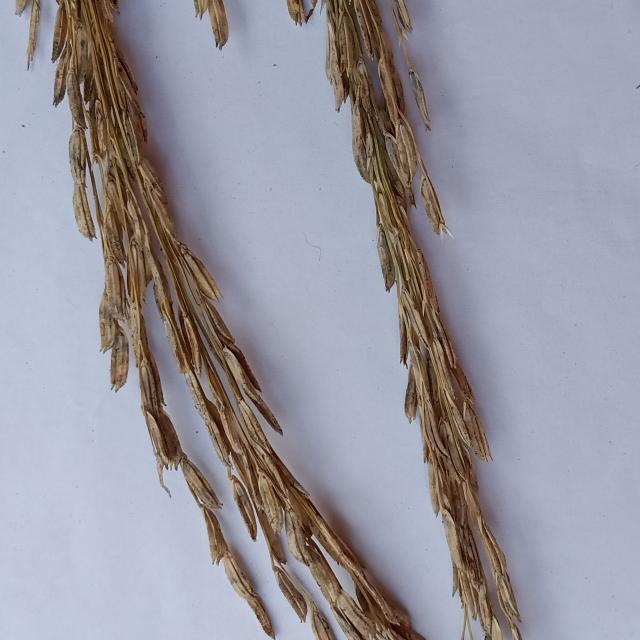Neck_Blast: (62, 5, 417, 640), (330, 0, 519, 632)
